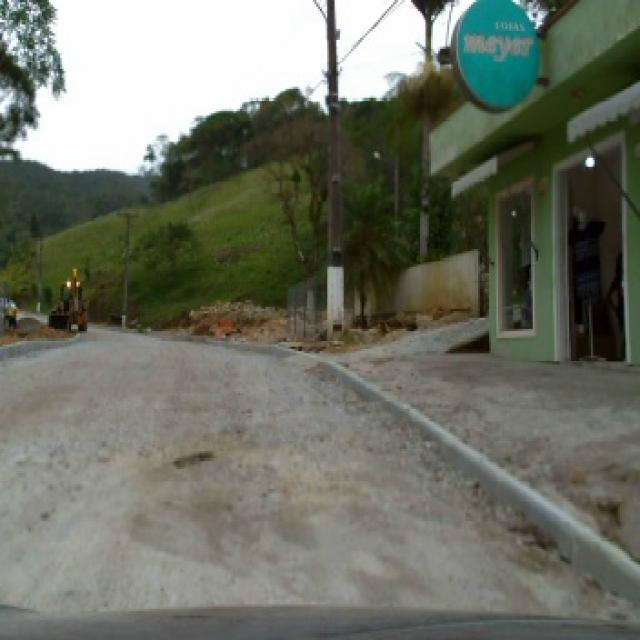Poth-hole: (170, 447, 214, 469)
